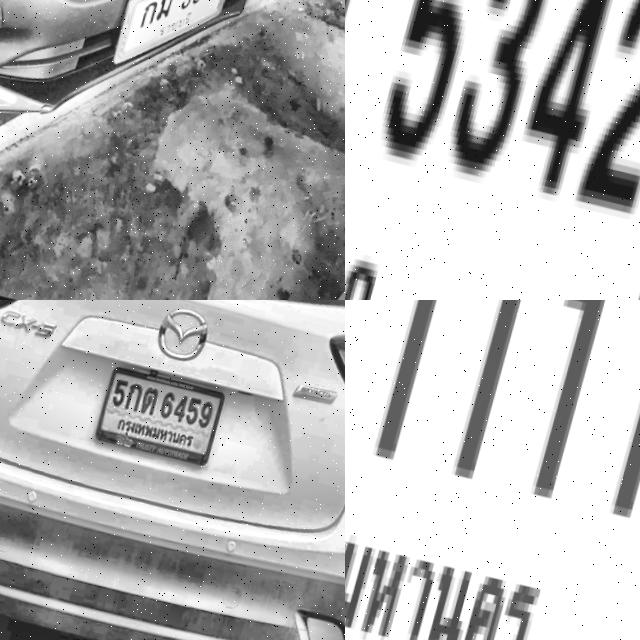license-plate: (345, 300, 640, 640), (345, 0, 640, 300), (95, 359, 235, 468), (111, 0, 249, 90)
